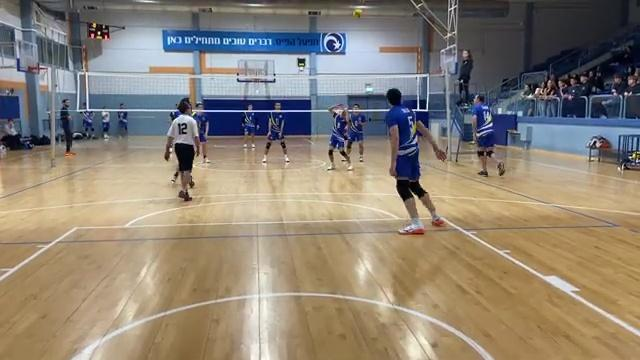ball: (349, 5, 365, 21)
